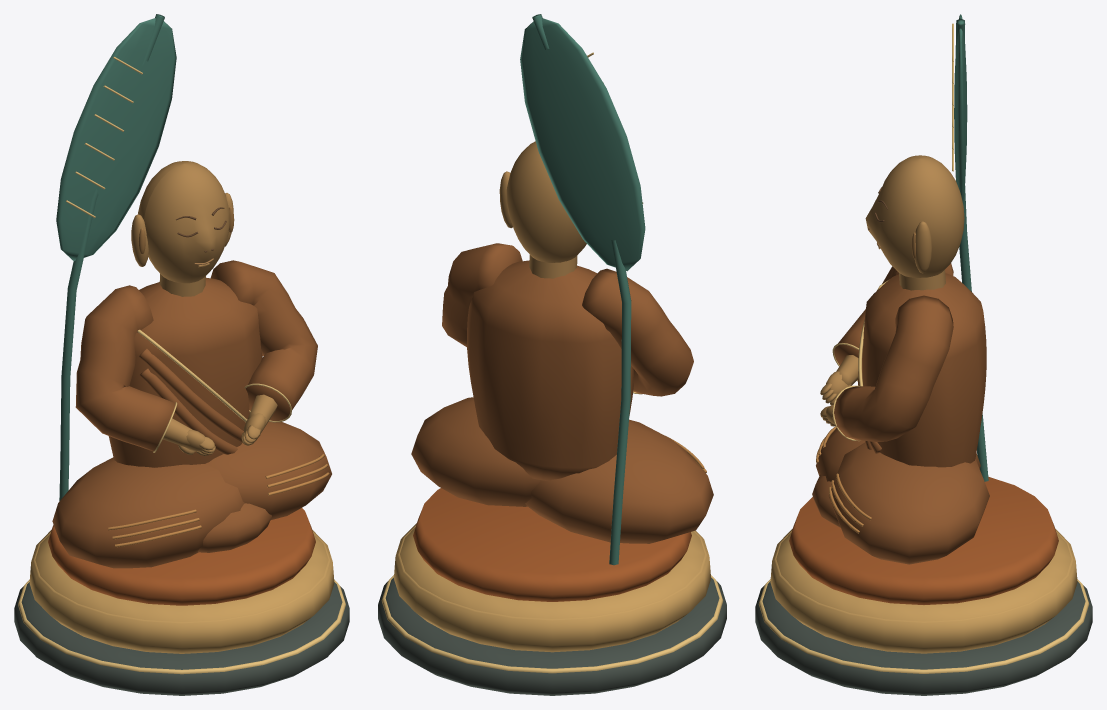
The model's file is arhat_10_lod1.glb.
3 views of the same model, side by side, from view 1: azimuth 30°, elevation 25°; view 2: azimuth 150°, elevation 25°; view 3: azimuth 270°, elevation 25° (orthographic). The views are drawn at different scales.
Parts seen in each view (by area): view 1: arhat_10_ArhatDrapery, arhat_10_JadeAccents, arhat_10_AntiqueGold, arhat_10_CarvedPlinth, arhat_10_WarmBronze, arhat_10_SaffronDrapery, arhat_10_RaisedGoldBorders, arhat_10_DraperyFoldHighlights; view 2: arhat_10_ArhatDrapery, arhat_10_JadeAccents, arhat_10_SaffronDrapery, arhat_10_AntiqueGold, arhat_10_CarvedPlinth, arhat_10_WarmBronze, arhat_10_RaisedGoldBorders; view 3: arhat_10_ArhatDrapery, arhat_10_SaffronDrapery, arhat_10_AntiqueGold, arhat_10_CarvedPlinth, arhat_10_WarmBronze, arhat_10_JadeAccents, arhat_10_RaisedGoldBorders, arhat_10_DraperyFoldHighlights.
Part boxes in pixels (box(x1,y1,x2,y2)): arhat_10_ArhatDrapery: box(52, 260, 331, 568); arhat_10_JadeAccents: box(56, 14, 176, 500); arhat_10_AntiqueGold: box(29, 530, 334, 653); arhat_10_CarvedPlinth: box(14, 582, 349, 695); arhat_10_WarmBronze: box(131, 161, 277, 455); arhat_10_SaffronDrapery: box(48, 508, 315, 605); arhat_10_RaisedGoldBorders: box(18, 56, 345, 674); arhat_10_DraperyFoldHighlights: box(108, 454, 329, 547); arhat_10_ArhatDrapery: box(411, 243, 713, 543); arhat_10_JadeAccents: box(520, 14, 645, 565); arhat_10_SaffronDrapery: box(413, 488, 691, 601); arhat_10_AntiqueGold: box(394, 523, 710, 652); arhat_10_CarvedPlinth: box(378, 577, 726, 695); arhat_10_WarmBronze: box(499, 141, 586, 278); arhat_10_RaisedGoldBorders: box(381, 52, 723, 673); arhat_10_ArhatDrapery: box(812, 263, 989, 564); arhat_10_SaffronDrapery: box(789, 476, 1058, 604); arhat_10_AntiqueGold: box(770, 529, 1077, 653); arhat_10_CarvedPlinth: box(755, 581, 1092, 695); arhat_10_WarmBronze: box(820, 155, 964, 426); arhat_10_JadeAccents: box(954, 14, 988, 481); arhat_10_RaisedGoldBorders: box(758, 23, 1089, 673); arhat_10_DraperyFoldHighlights: box(816, 426, 871, 533).
Bounding box in the file's own units: 0.92 × 1.83 × 0.92.
